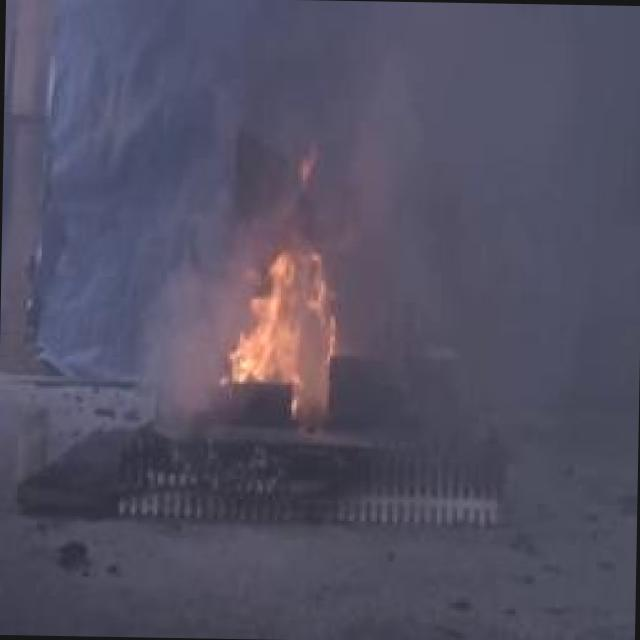fire: (222, 210, 338, 407)
